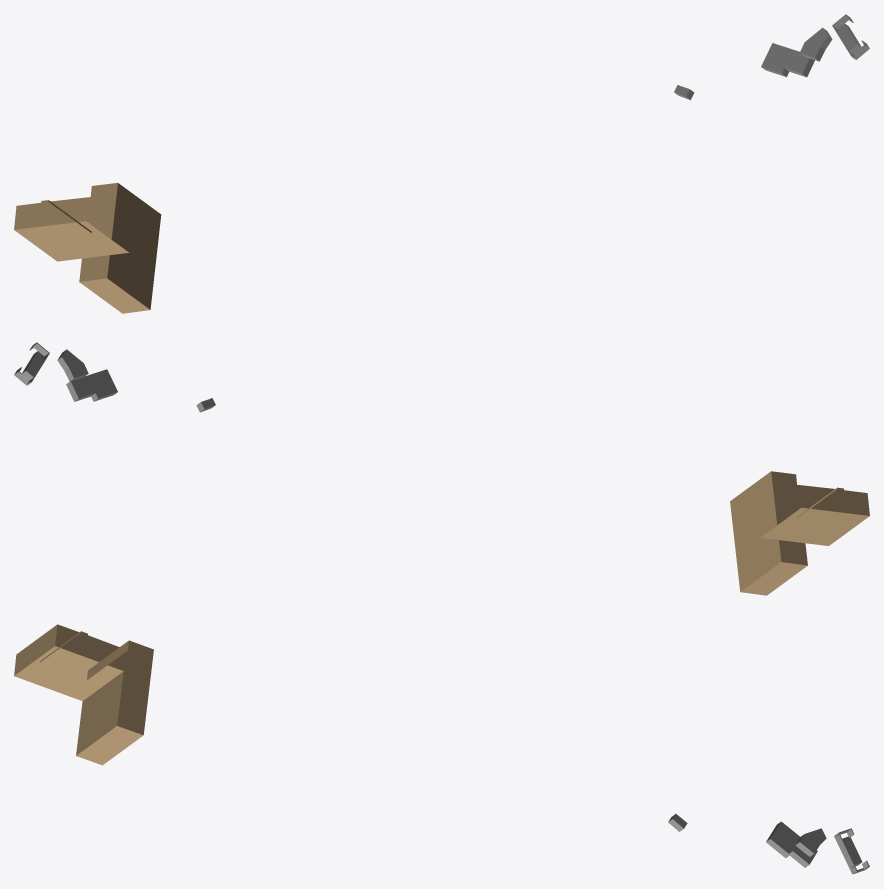
The picture shows the model from 3 angles, top to bottom: view 1: azimuth 30°, elevation 25°; view 2: azimuth 150°, elevation 25°; view 3: azimuth 330°, elevation 25°; orthographic projection. The views are drawn at different scales.
Visible parts, largest first — view 1: 0_3_2_2_3_1; view 2: 0_3_2_2_3_1; view 3: 0_3_2_2_3_1.
Part boxes in pixels (<box>): 0_3_2_2_3_1: <box>14,14,869,313</box>; 0_3_2_2_3_1: <box>14,342,869,595</box>; 0_3_2_2_3_1: <box>14,624,869,874</box>.
Bounding box in the file's own units: 308 × 33.07 × 28.99.
